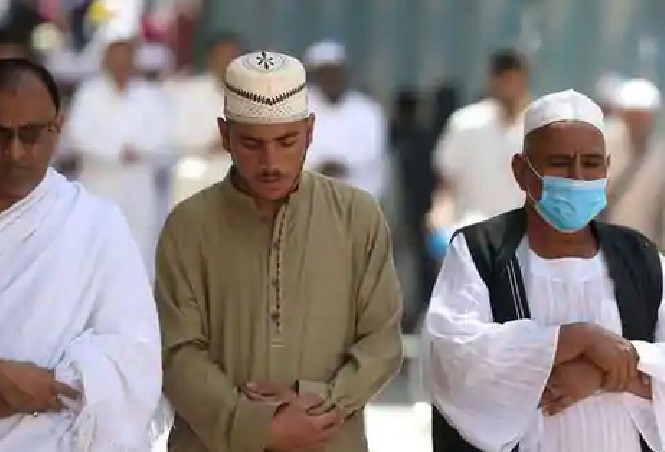face_no_mask: (216, 62, 322, 207), (1, 55, 66, 201)
face_with_mask: (510, 88, 612, 235)
